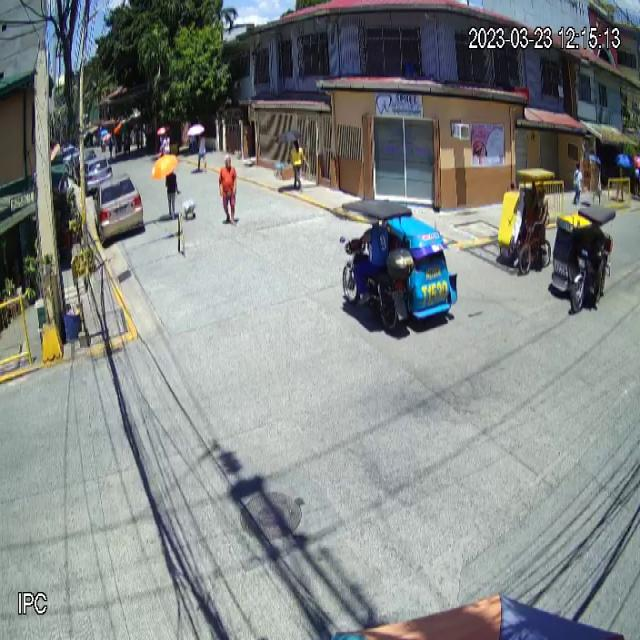Car: (92, 172, 144, 246)
Tricycle: (340, 197, 458, 336), (549, 204, 617, 312), (495, 164, 550, 274)
